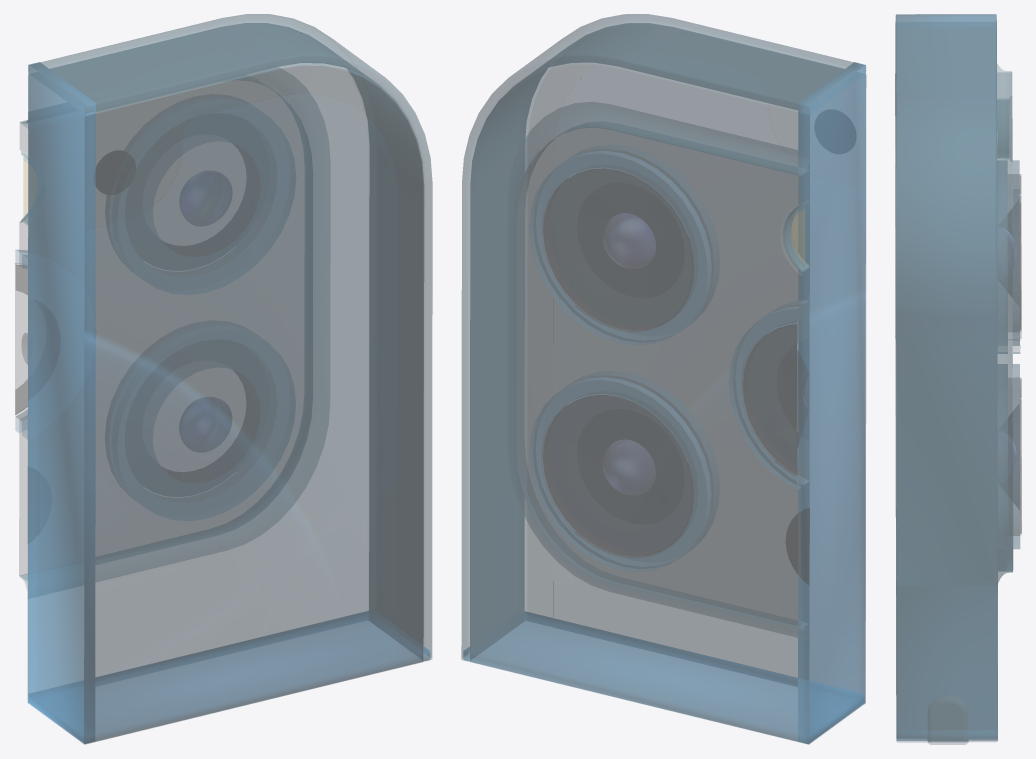
The picture shows the model from 3 angles, left to right: view 1: azimuth 30°, elevation 25°; view 2: azimuth 150°, elevation 25°; view 3: azimuth 270°, elevation 25°; orthographic projection. The views are drawn at different scales.
Visible parts, largest first — view 1: Apple_Logo_Logo_0, Box003, Box005; view 2: Apple_Logo_Logo_0, Box003, Box005; view 3: Apple_Logo_Logo_0, Box003, Box005.
Boxes of the visible parts, box(x1,y1,x2,y2) form: Apple_Logo_Logo_0: box(15, 14, 432, 744); Box003: box(28, 62, 95, 743); Box005: box(29, 611, 429, 743); Apple_Logo_Logo_0: box(461, 14, 866, 744); Box003: box(798, 62, 865, 743); Box005: box(463, 611, 864, 742); Apple_Logo_Logo_0: box(895, 14, 1021, 744); Box003: box(896, 14, 997, 580); Box005: box(897, 594, 997, 740).
Bounding box in the file's own units: 49.46 × 85.2 × 17.02.
Materials: 15 (3 with a texture image).
